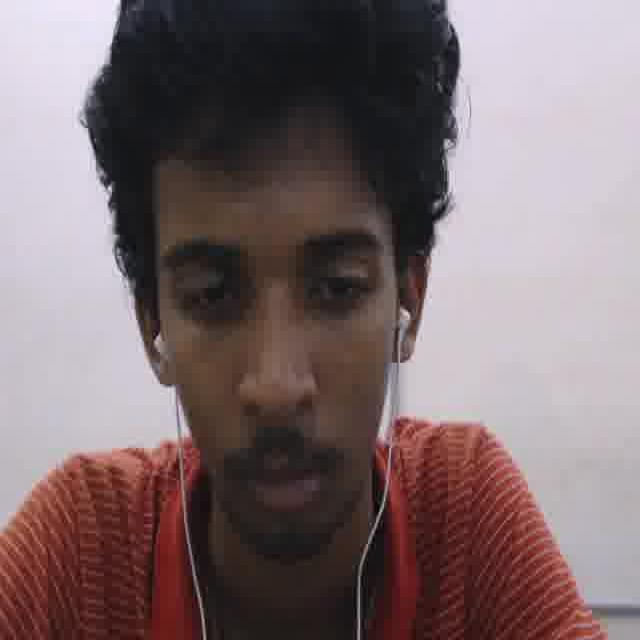Boredom: (143, 121, 402, 563)
